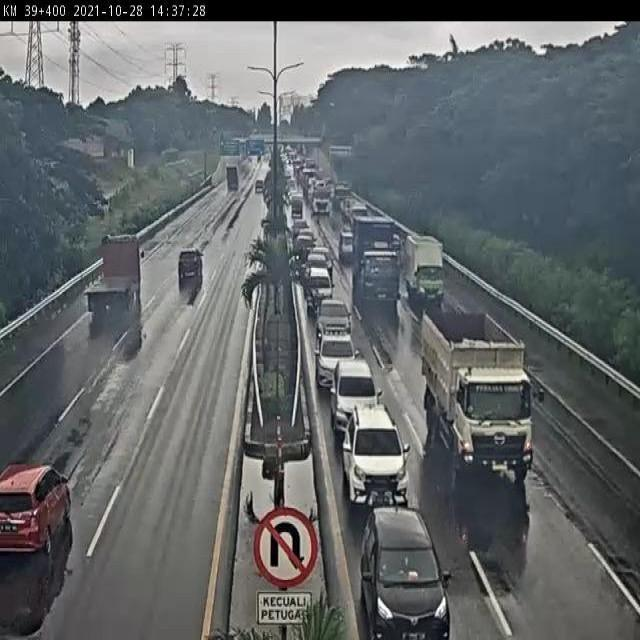car: (362, 502, 447, 636), (453, 456, 530, 601), (336, 378, 406, 501), (2, 462, 72, 580), (349, 215, 404, 309), (344, 420, 406, 503), (331, 357, 383, 443), (316, 297, 354, 356), (176, 243, 206, 289), (305, 249, 330, 276)
truck: (419, 274, 532, 474), (86, 230, 140, 324)
